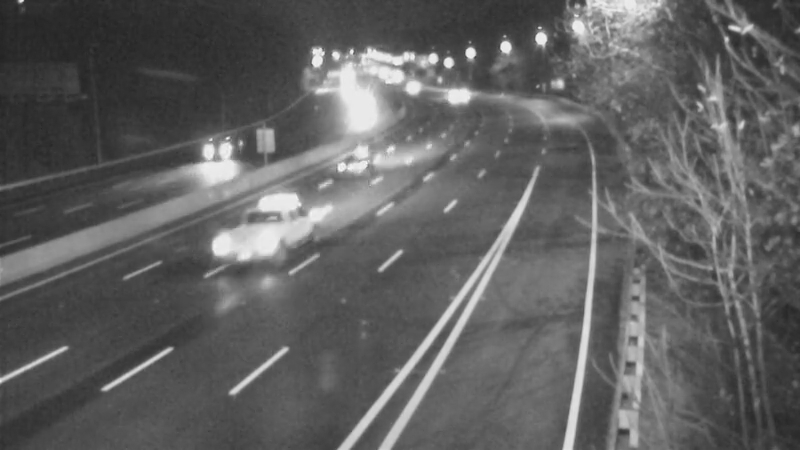vehicle: (309, 124, 389, 204), (230, 182, 310, 262), (175, 115, 255, 195), (390, 61, 440, 111), (425, 69, 475, 119), (335, 93, 385, 143)
